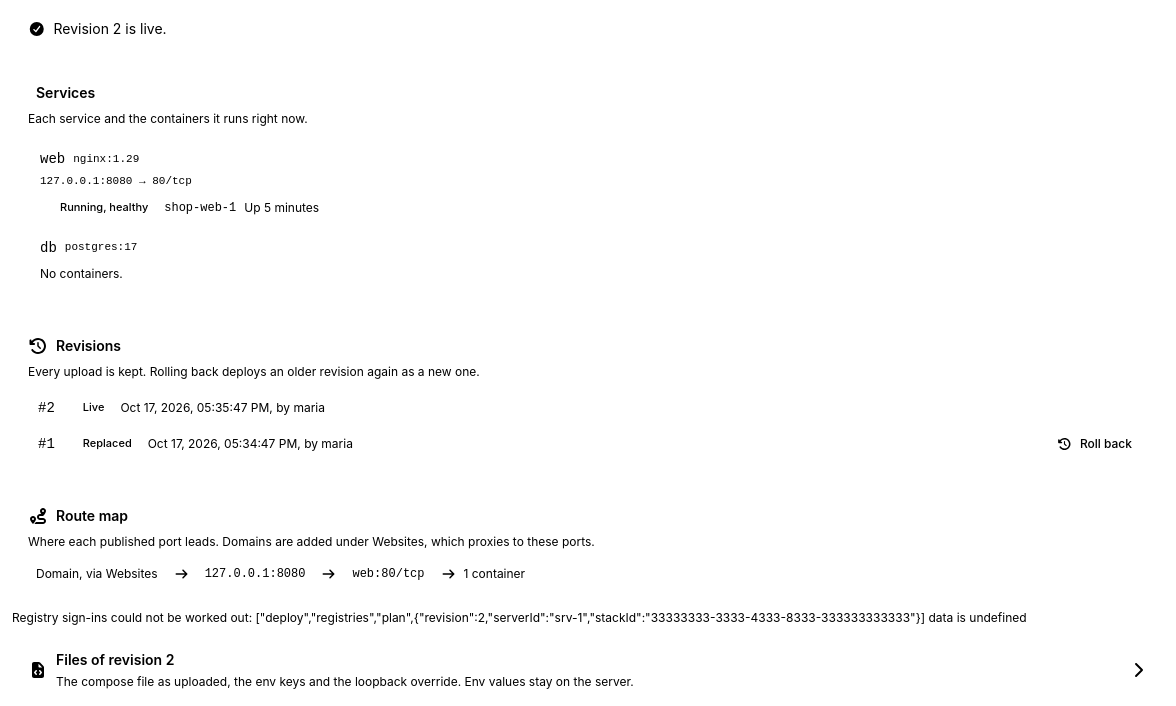
Test: AppDetail › says when the files did not load
(page scrolled)
Click the button "Files of revision 2": (111, 659) [12,634,1164,705]
(page scrolled)
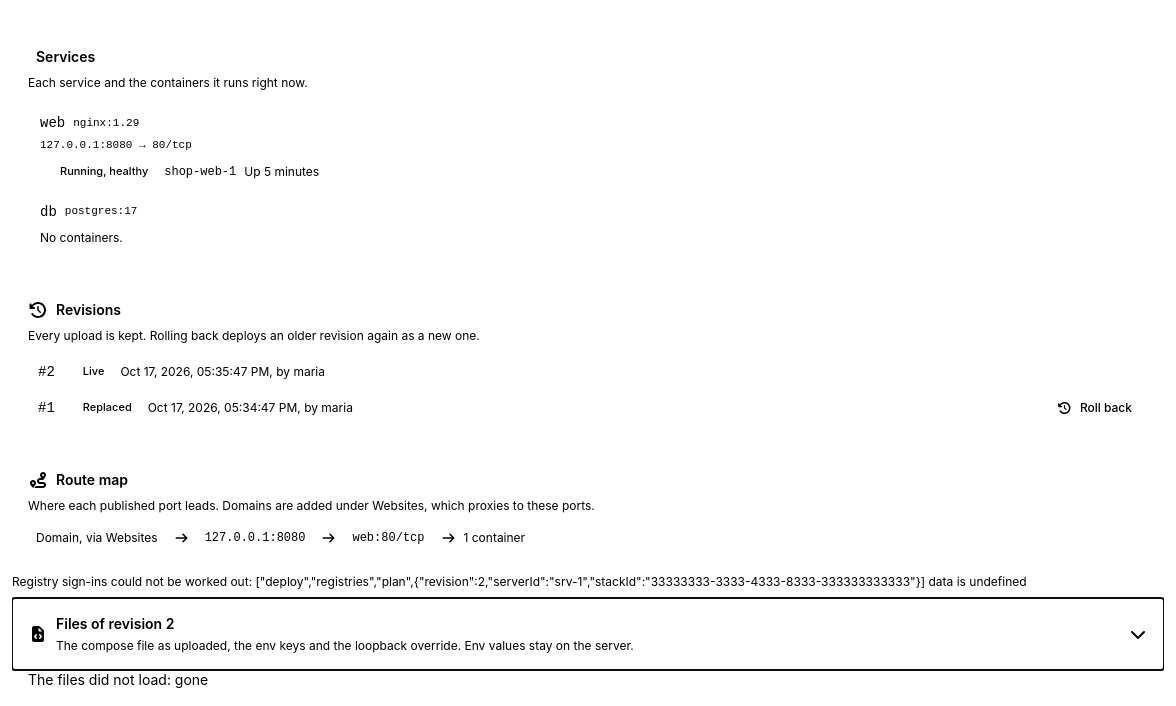
Expected: the text "The files did not load: gone" is shown, [28,670,208,688]
